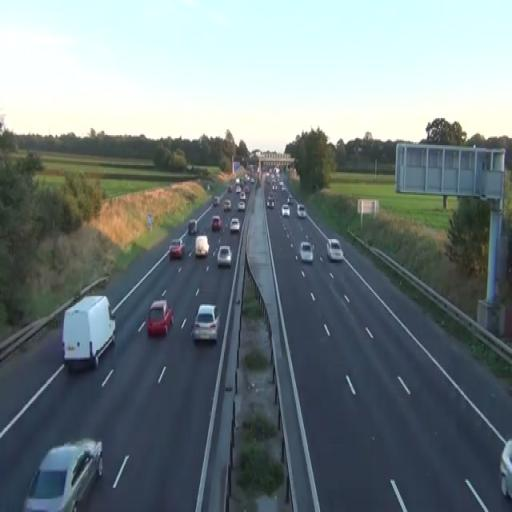Car: (23, 438, 103, 512), (190, 304, 220, 344), (146, 299, 174, 337), (500, 438, 512, 501), (326, 238, 344, 262), (168, 238, 186, 260), (195, 234, 210, 258), (217, 245, 232, 268), (300, 242, 314, 263), (211, 215, 223, 232), (230, 218, 240, 233), (297, 205, 307, 219), (266, 198, 274, 209)
Truck: (62, 295, 116, 372)
